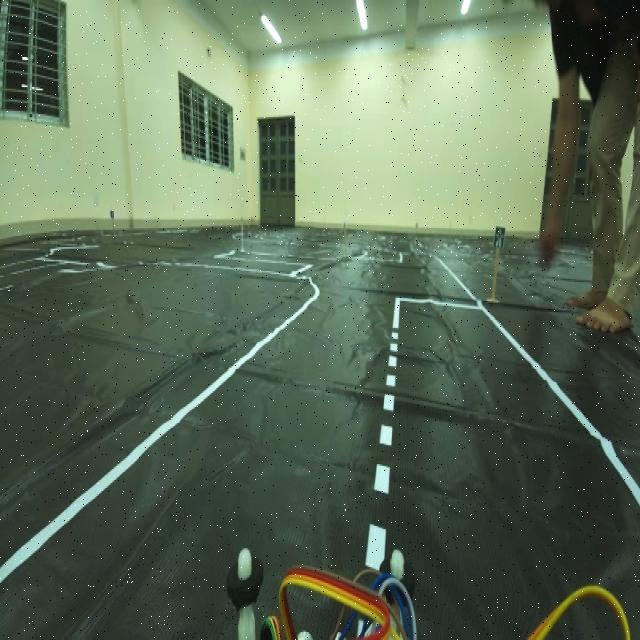highway_exit: (491, 221, 508, 254)
